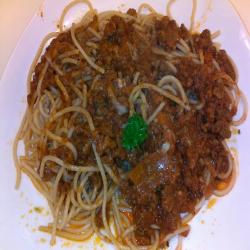bolonese_pasta: (24, 11, 229, 249)
